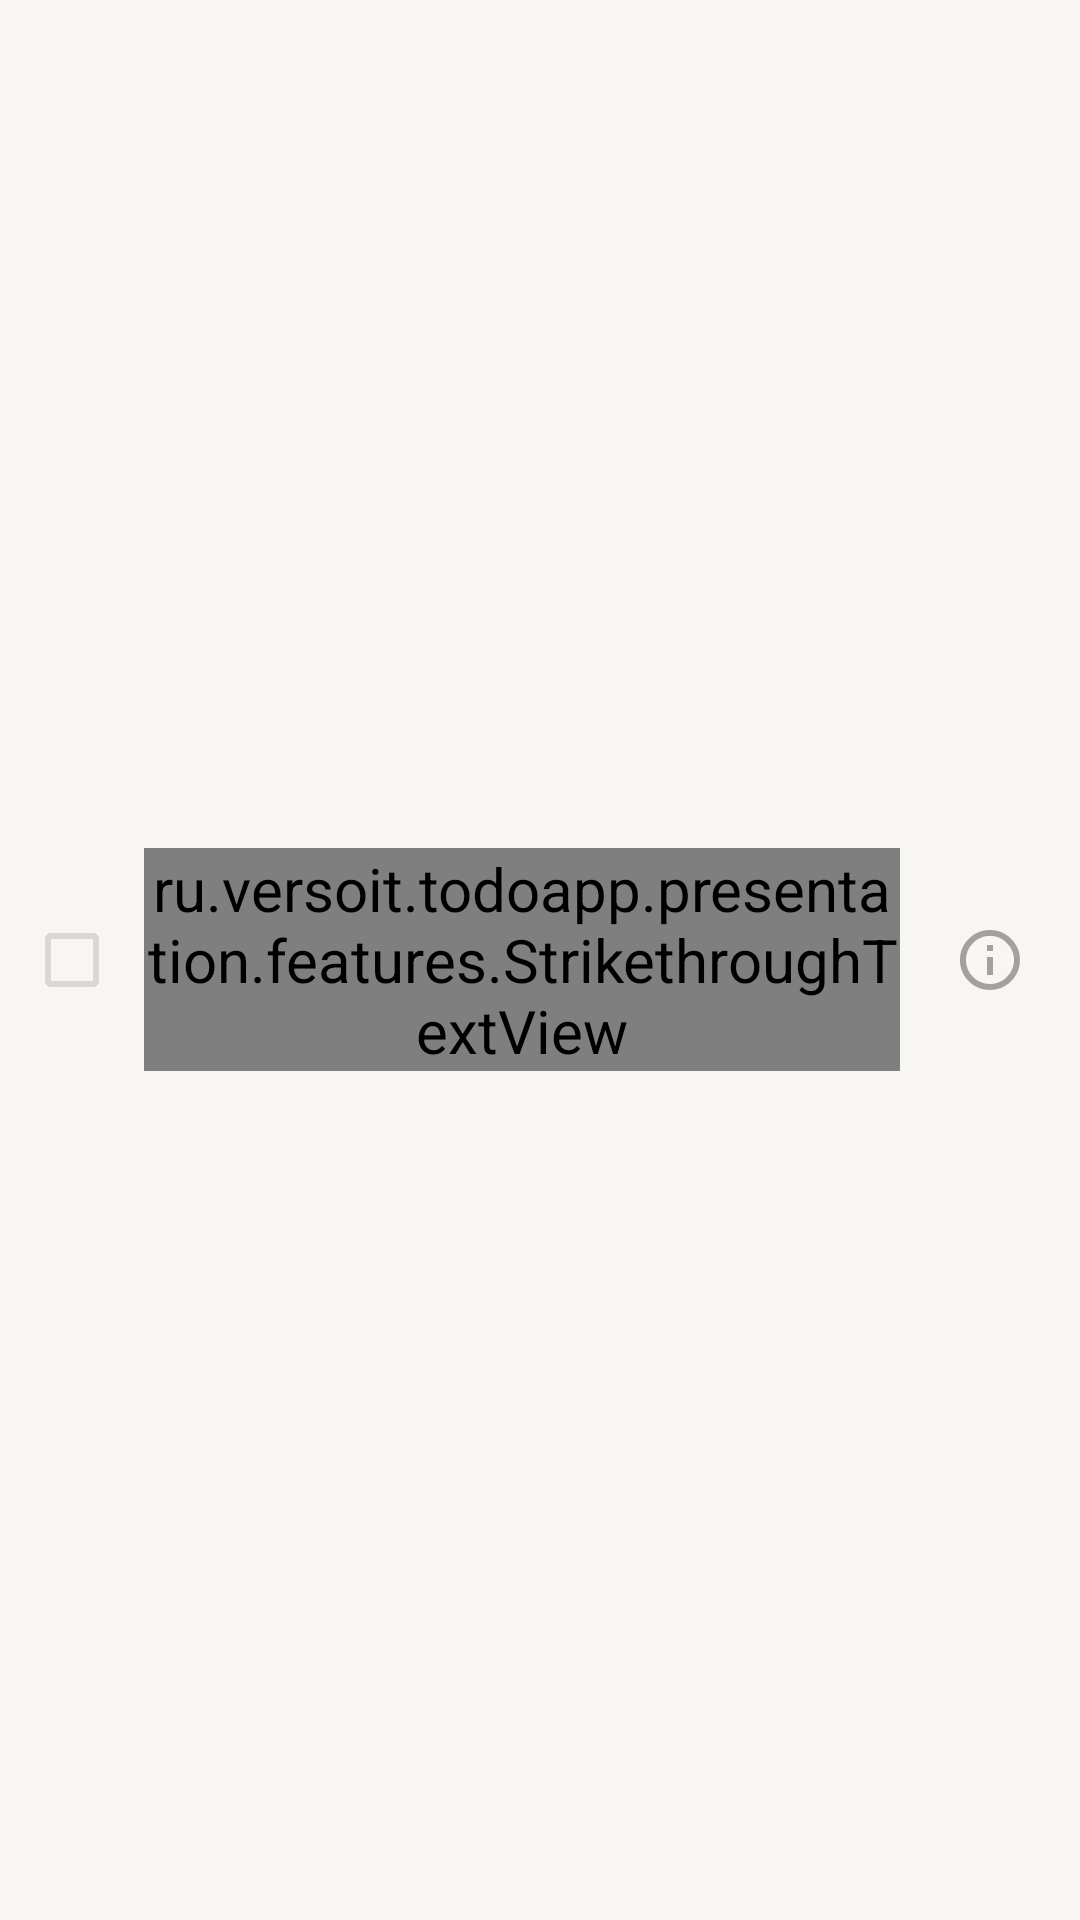

Named icons in this screenshot (1080x1920) and their bounding boxes, (x1, y1, x2, y2):
Info: (960, 930, 1020, 990)
